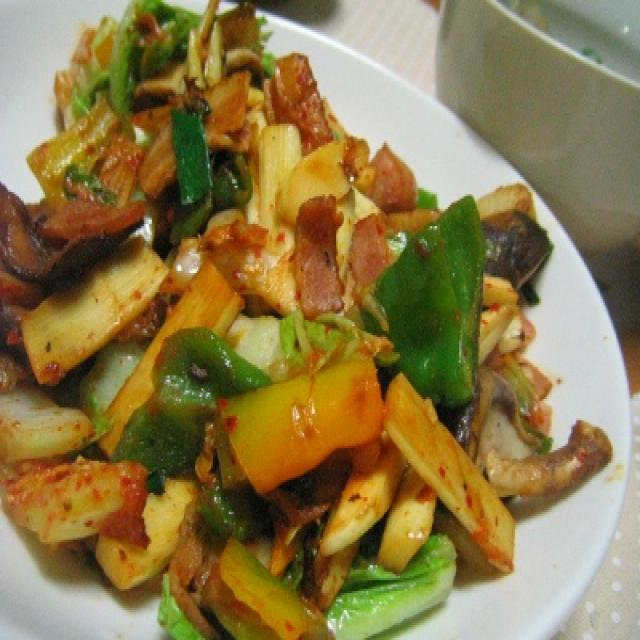蔬菜料理: (0, 0, 603, 640)
